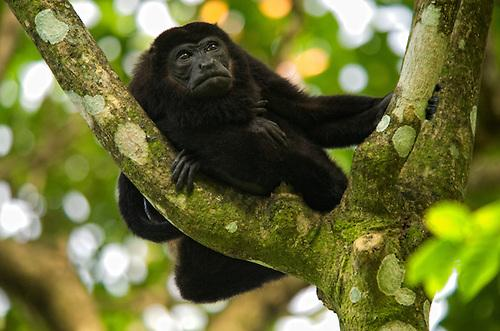monkey: (127, 22, 397, 215)
